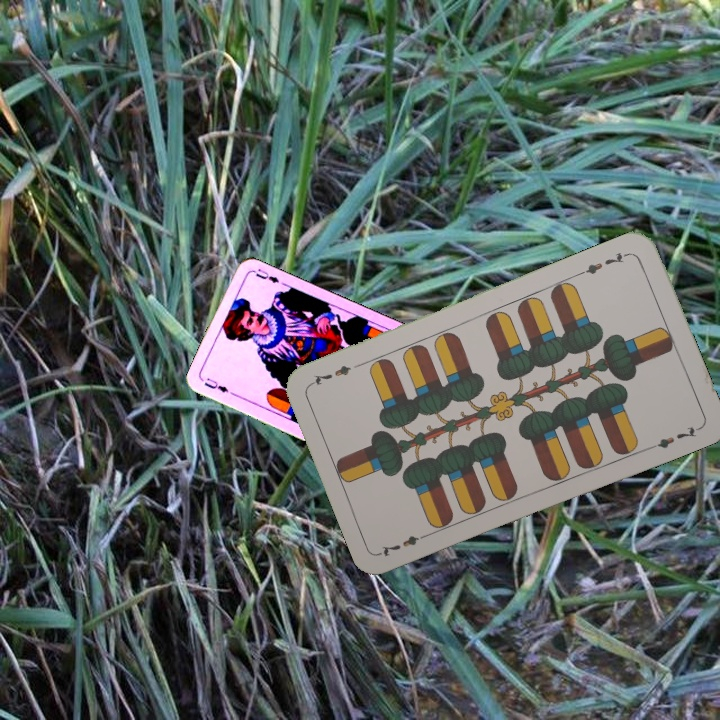E7: (377, 528, 433, 559), (576, 248, 633, 278)
EU: (200, 374, 231, 395)
